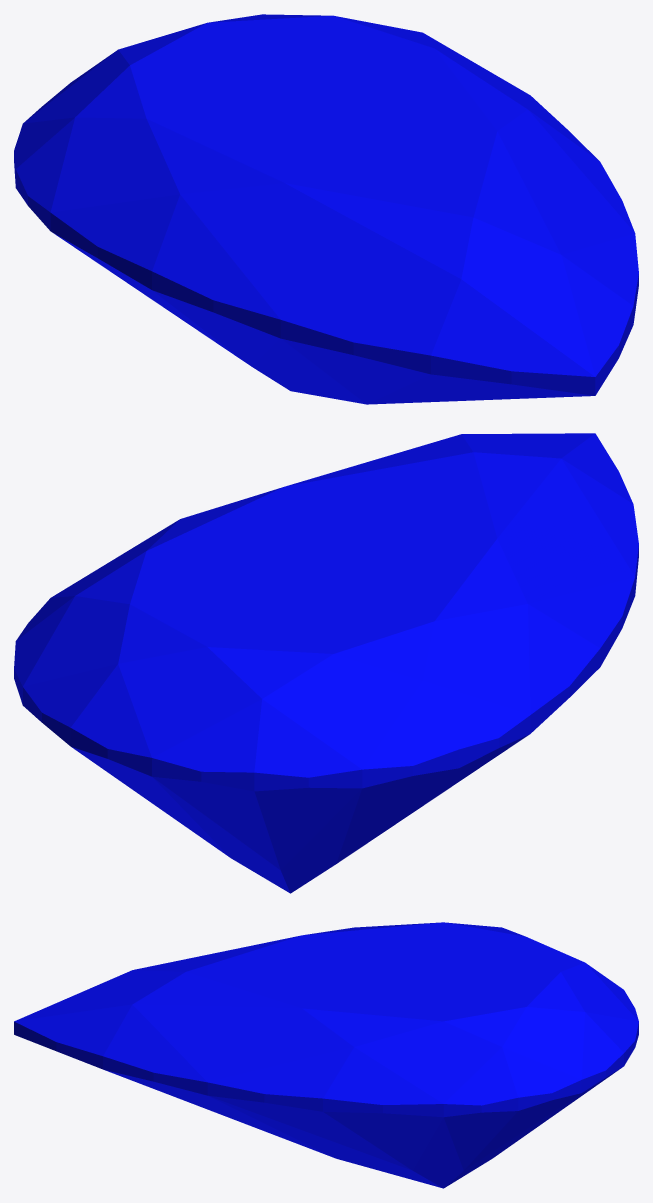
The model's file is Jewel08.fbx.
The picture shows the model from 3 angles, top to bottom: view 1: azimuth 30°, elevation 25°; view 2: azimuth 150°, elevation 25°; view 3: azimuth 270°, elevation 25°; orthographic projection. The views are drawn at different scales.
Parts seen in each view (by area): view 1: Pear.002; view 2: Pear.002; view 3: Pear.002.
Part boxes in pixels (left/top/right/bottom): Pear.002: left=14, top=14, right=638, bottom=404; Pear.002: left=14, top=433, right=638, bottom=893; Pear.002: left=14, top=922, right=638, bottom=1188.
Size of the model in its own units: 0.0625 by 0.0383 by 0.1.
